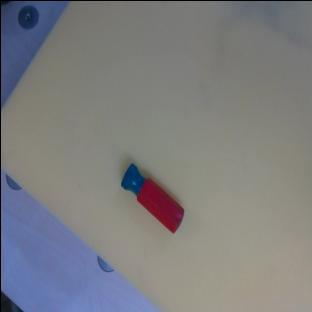part_2_good: (114, 162, 190, 233)
